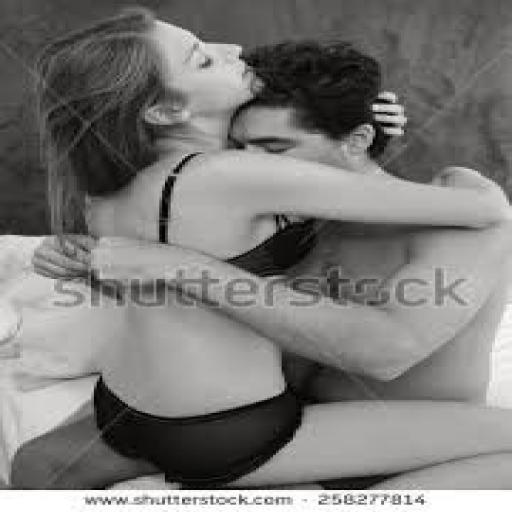hugging: (3, 7, 509, 488)
